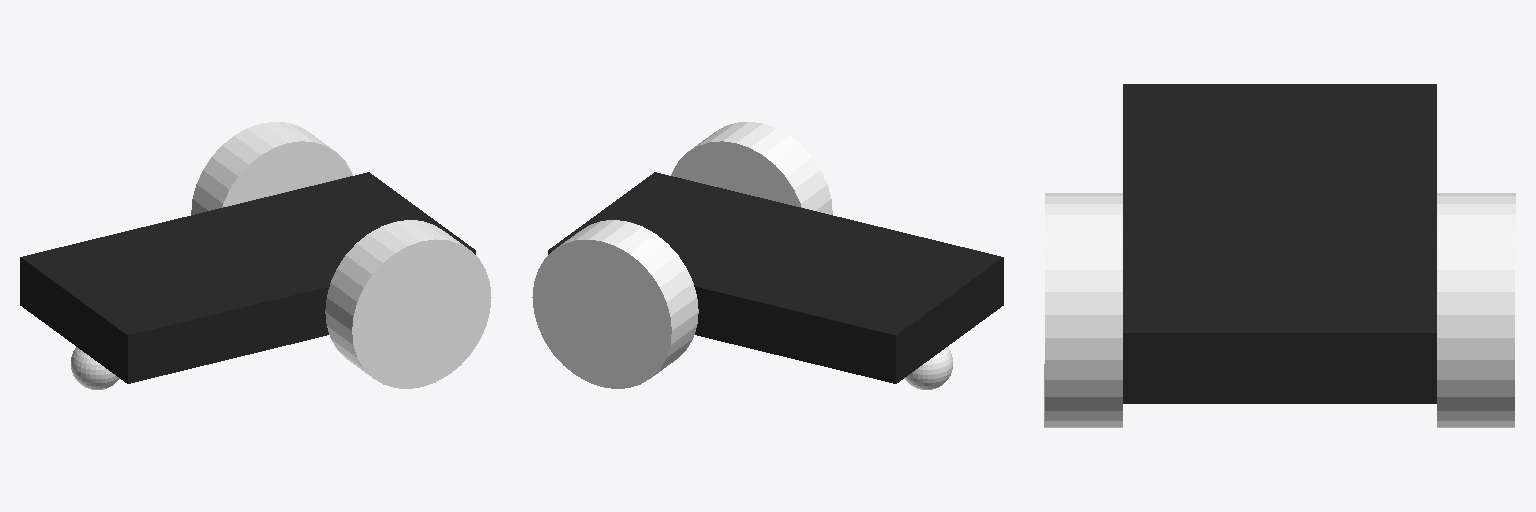
URDF robot description (robot):
<?xml version="1.0"?>
<robot name="robot">

    <material name="white">
        <color rgba="1 1 1 1"/>
    </material>

    <link name="base">
        <visual>
            <geometry>
                <box size="0.75 0.4 0.1"/>
            </geometry>
            <material name="gray">
                <color rgba=".2 .2 .2 1" />
            </material>
        </visual>
    </link>

    <link name="wheel_right_link">
        <visual>
            <geometry>
                <cylinder radius="0.15" length="0.1"/>
            </geometry>
            <material name="white">
                <color rgba="1 1 1 1"/>
            </material>
        </visual>
    </link>

    <link name="wheel_left_link">
        <visual>
            <geometry>
                <cylinder radius="0.15" length="0.1"/>
            </geometry>
            <material name="white">
                <color rgba="1 1 1 1"/>
            </material>
        </visual>
    </link>

    <link name="caster_sphere">
        <visual>
            <geometry>
                <sphere radius="0.05"/>
            </geometry>
            <material name="white">
                <color rgba="1 1 1 1"/>
            </material>
        </visual>
    </link>


    <joint name="wheel_right_joint" type="continuous">
        <origin xyz="0.2 0.25 0.0" rpy="1.57 0.0 0.0"/>
        <parent link="base"/>
        <child link="wheel_right_link"/>
        <axis xyz="0.0 0.0 1.0"/>
    </joint>

    <joint name="wheel_left_joint" type="continuous">
        <origin xyz="0.2 -0.25 0.0" rpy="1.57 0.0 0.0"/>
        <parent link="base"/>
        <child link="wheel_left_link"/>
        <axis xyz="0.0 0.0 1.0"/>
    </joint>

    <joint name="caster_to_base" type="fixed">
        <origin xyz="-0.325 0.0 -0.1" rpy="0.0 0.0 0.0"/>
        <parent link="base"/>
        <child link="caster_sphere"/>
    </joint>
</robot>

--- Render facts (derived) ---
Views: 3 orthographic renders of the robot side by side, from view 1: azimuth 30°, elevation 25°; view 2: azimuth 150°, elevation 25°; view 3: azimuth 270°, elevation 25°.
Robot: robot — 4 links, 3 joints (2 continuous, 1 fixed); root link base; default pose: every joint at zero.
Visible links, largest first — view 1: base, wheel_left_link, wheel_right_link, caster_sphere; view 2: base, wheel_right_link, wheel_left_link, caster_sphere; view 3: base, wheel_right_link, wheel_left_link.
Link boxes in pixels (x1,y1,x2,y2): base: [20, 172, 475, 383]; wheel_left_link: [325, 220, 491, 388]; wheel_right_link: [191, 122, 352, 214]; caster_sphere: [71, 347, 119, 389]; base: [548, 172, 1003, 383]; wheel_right_link: [532, 220, 698, 388]; wheel_left_link: [671, 122, 832, 214]; caster_sphere: [904, 347, 952, 389]; base: [1123, 84, 1436, 403]; wheel_right_link: [1437, 193, 1515, 427]; wheel_left_link: [1044, 193, 1122, 427].
Bounding box of the posed robot: 0.75 × 0.6002 × 0.3001 m (x, y, z).
Geometry: primitives only (box / cylinder / sphere), no mesh files.